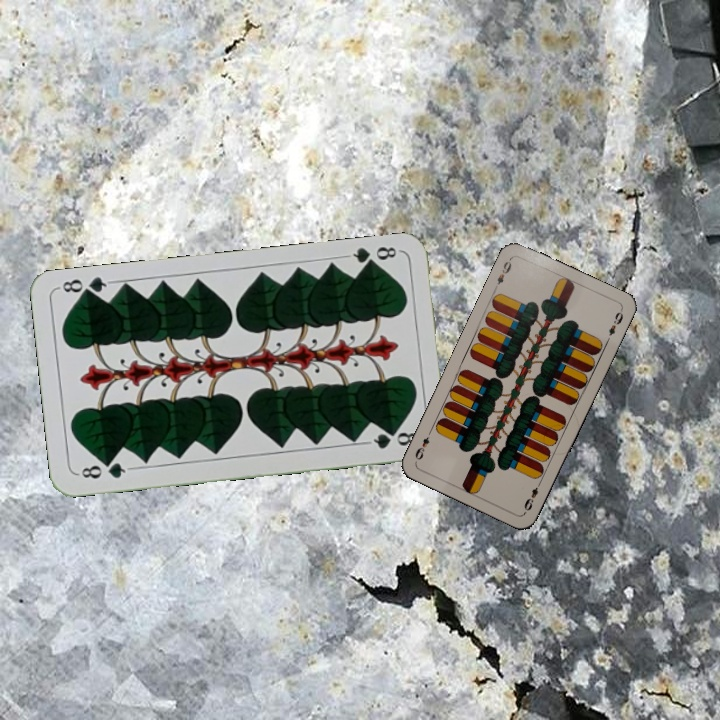E9: (490, 254, 514, 292), (520, 477, 544, 514)
G8: (342, 242, 399, 271), (74, 457, 133, 482)
